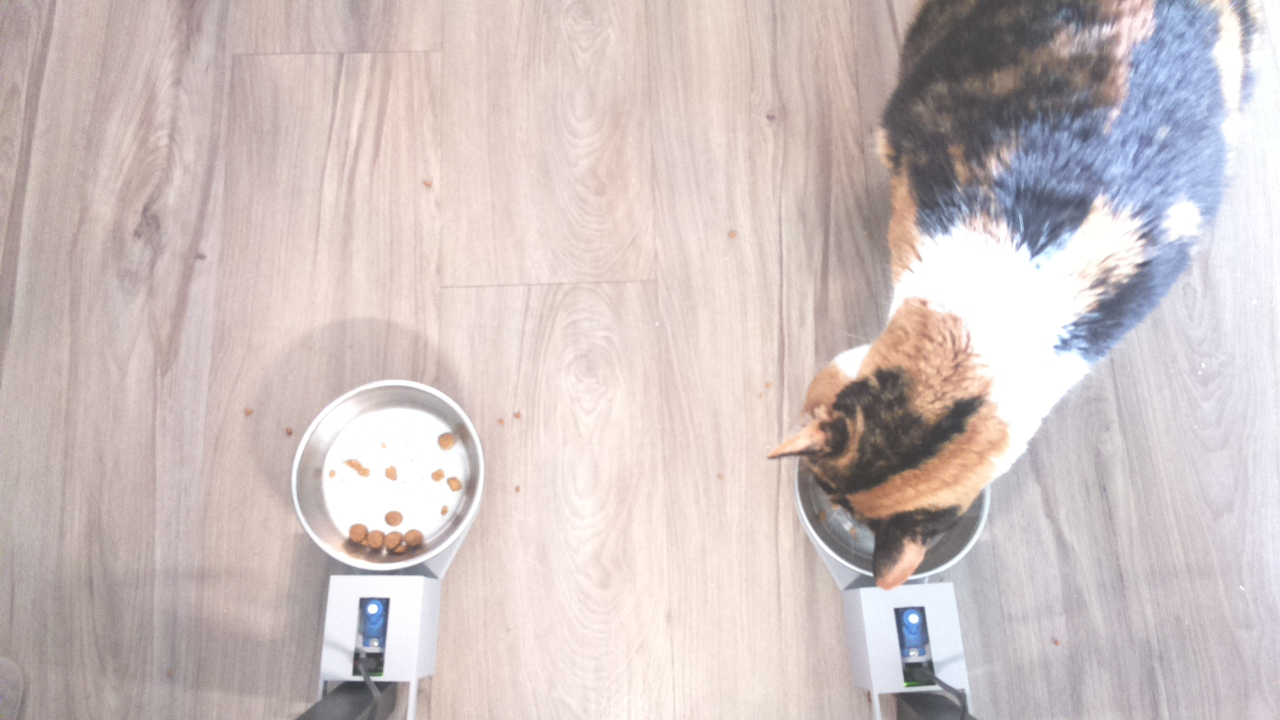bella_eating: (754, 305, 1040, 583)
open_bowl: (284, 376, 484, 576)
